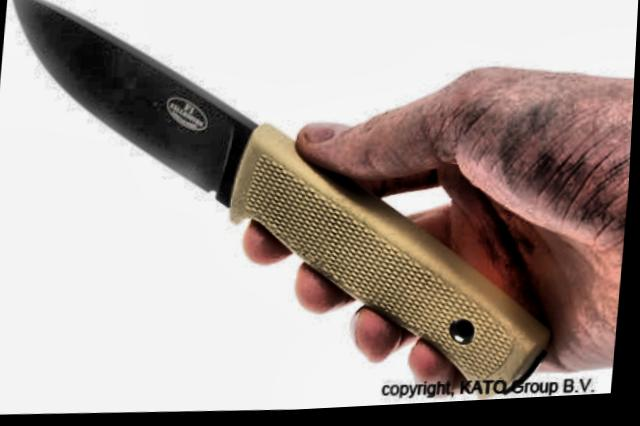knife: (0, 0, 437, 322)
